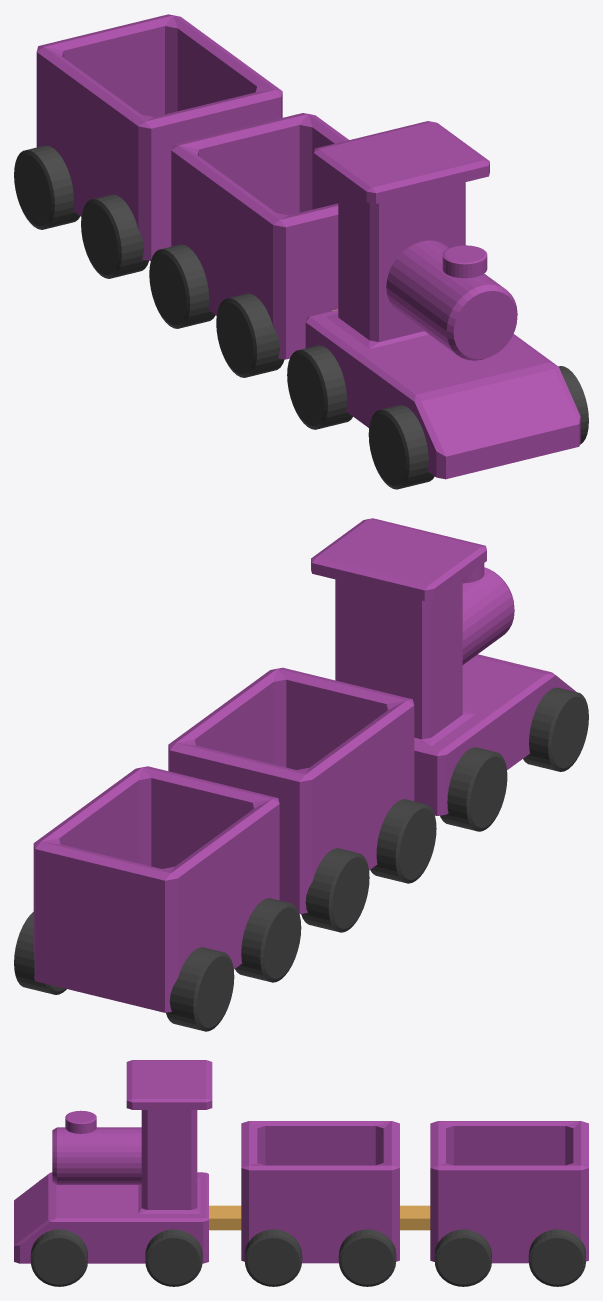
Rendered from ToyTrrain_1_Props.fbx.
3 renders of one model, top to bottom at view 1: azimuth 30°, elevation 25°; view 2: azimuth 150°, elevation 25°; view 3: azimuth 270°, elevation 25°, orthographic. The views are drawn at different scales.
Visible parts, largest first — view 1: TrainBody, TrainCarriage.001, TrainCarriage, TrainFront, TrainTire.008, TrainTire.010, TrainTire.009, TrainTire.011, TrainTire.006, TrainTire.007, TrainFront.001, TrainTire; view 2: TrainCarriage.001, TrainBody, TrainCarriage, TrainTire.011, TrainTire.009, TrainTire.007, TrainTire.008, TrainTire.010, TrainTire.006, TrainFront, TrainTire.005; view 3: TrainBody, TrainCarriage.001, TrainCarriage, TrainFront, TrainTire.003, TrainTire.002, TrainTire.005, TrainTire.004, TrainTire.001, TrainTire, TrainConnect, TrainConnect.001 (+1 smaller).
Boxes of the visible parts, x1,y1,x2,y2 form: TrainBody: (305,121,580,479); TrainCarriage.001: (36,14,282,260); TrainCarriage: (171,113,348,359); TrainFront: (386,240,517,360); TrainTire.008: (216,293,284,377); TrainTire.010: (81,194,148,278); TrainTire.009: (149,244,215,328); TrainTire.011: (14,145,80,229); TrainTire.006: (368,405,434,489); TrainTire.007: (287,345,352,429); TrainFront.001: (442,245,487,278); TrainTire: (558,366,588,444); TrainCarriage.001: (33,766,279,1012); TrainBody: (311,518,576,815); TrainCarriage: (168,667,414,914); TrainTire.011: (166,947,234,1031); TrainTire.009: (301,848,369,932); TrainTire.007: (440,747,507,831); TrainTire.008: (370,799,436,883); TrainTire.010: (235,898,301,982); TrainTire.006: (523,687,588,771); TrainFront: (462,567,514,664); TrainTire.005: (14,912,66,994); TrainBody: (14,1060,212,1263); TrainCarriage.001: (430,1121,588,1263); TrainCarriage: (241,1121,399,1263); TrainFront: (52,1127,141,1184); TrainTire.003: (338,1229,396,1286); TrainTire.002: (244,1229,302,1286); TrainTire.005: (528,1229,585,1286); TrainTire.004: (434,1229,491,1286); TrainTire.001: (145,1229,202,1286); TrainTire: (30,1229,87,1286); TrainConnect: (209,1205,241,1230); TrainConnect.001: (400,1205,430,1230).
Size of the model in its own units: 80.04 by 106 by 311.
